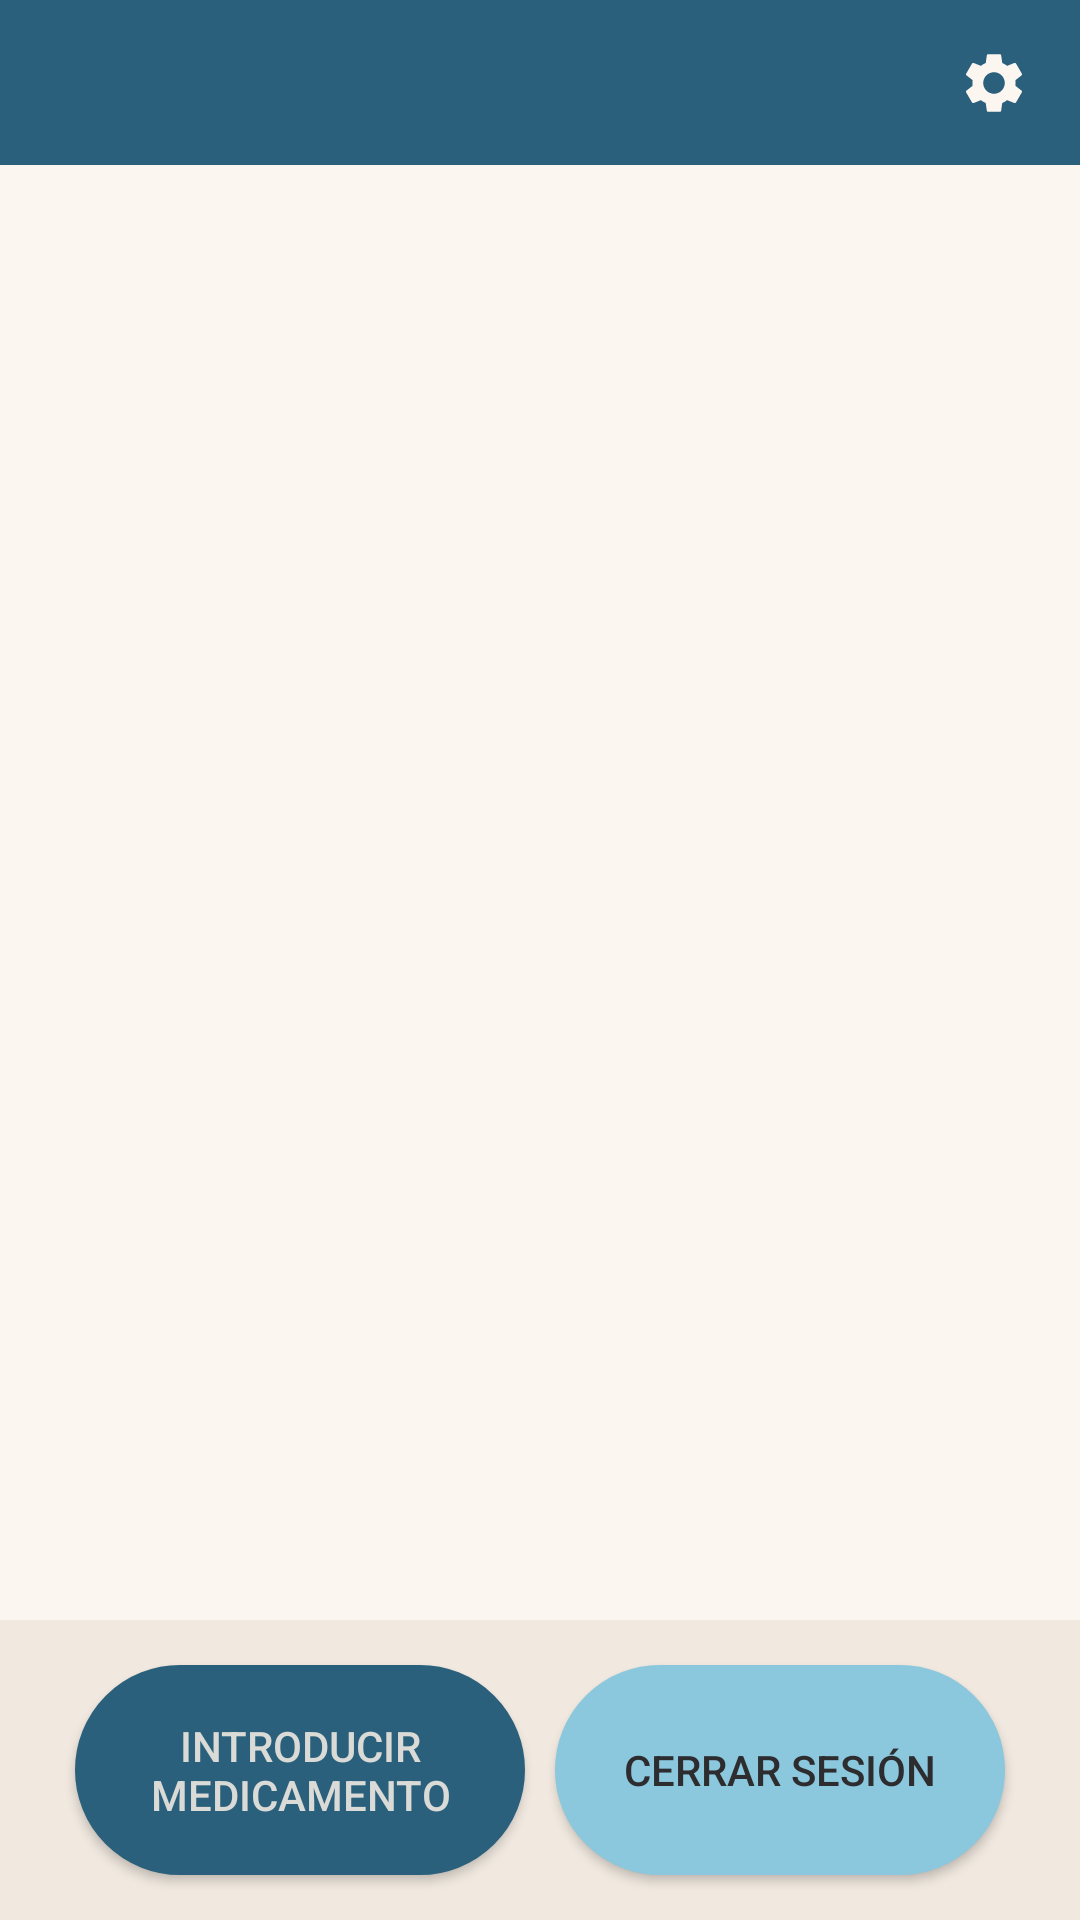

Icon bounding boxes for this 1080w x 1920h phone screenshot, format (x1, y1, x2, y2):
settings: (966, 54, 1022, 112)
